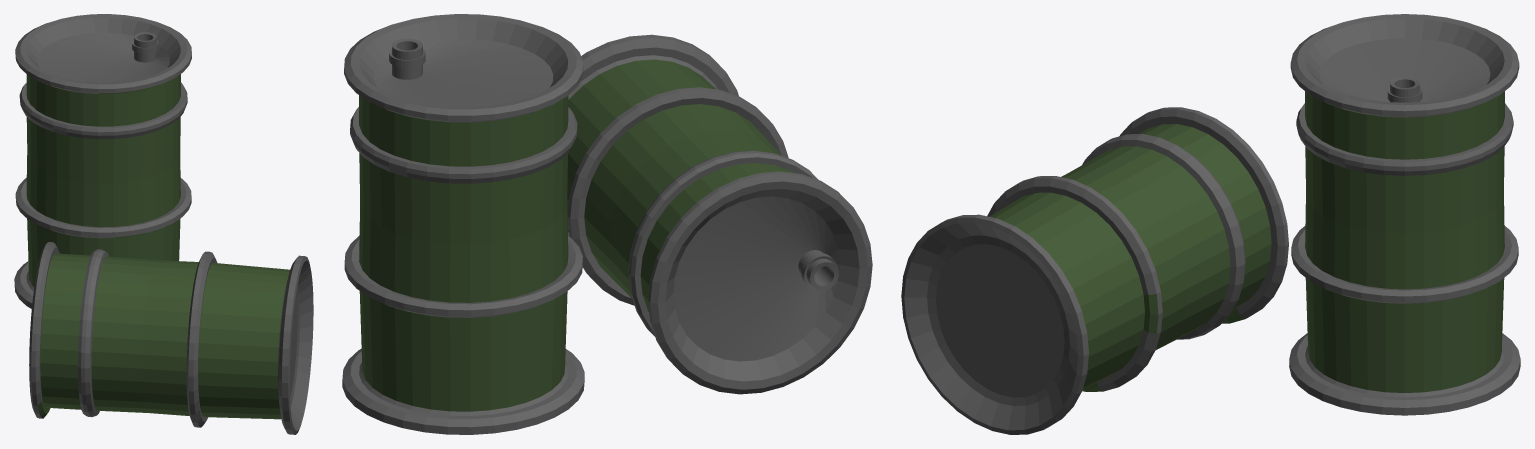
File: barrel.fbx
3 renders of one model, left to right at view 1: azimuth 30°, elevation 25°; view 2: azimuth 150°, elevation 25°; view 3: azimuth 270°, elevation 25°, orthographic. The views are drawn at different scales.
Visible parts, largest first — view 1: Cylinder.002, Cylinder.001; view 2: Cylinder.001, Cylinder.002; view 3: Cylinder.001, Cylinder.002.
Part boxes in pixels (box(x1,y1,x2,y2)): Cylinder.002: box(29, 242, 313, 434); Cylinder.001: box(14, 14, 191, 308); Cylinder.001: box(342, 14, 584, 434); Cylinder.002: box(567, 34, 872, 394); Cylinder.001: box(1289, 14, 1520, 415); Cylinder.002: box(901, 107, 1288, 434).
Bounding box in the file's own units: 609 × 581 × 930.
